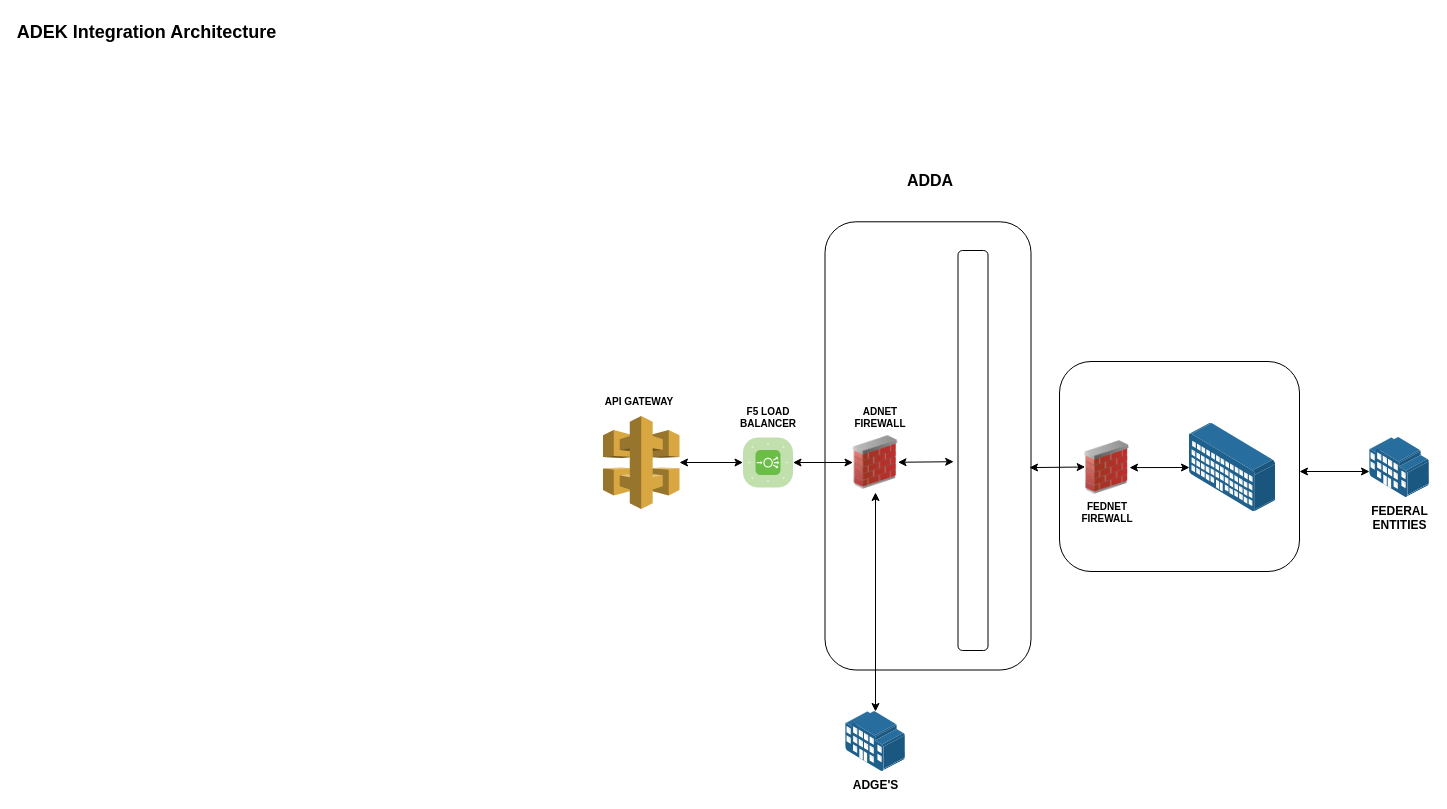
This 1447x809 diagram has some shape labels left out. The box of each missing label's shape, as (x1, y1, x2, y2) in pixels:
ADDA AD-CONNECT: (957, 250, 988, 650)
GSB/TDRA: (1189, 422, 1275, 512)
